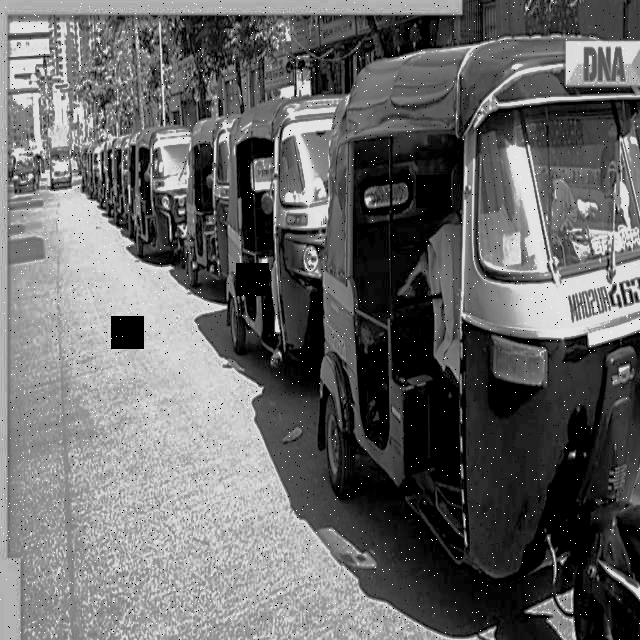Auto-Rickshaw: (317, 53, 640, 639), (220, 89, 346, 394), (125, 116, 197, 264), (186, 112, 246, 289)
